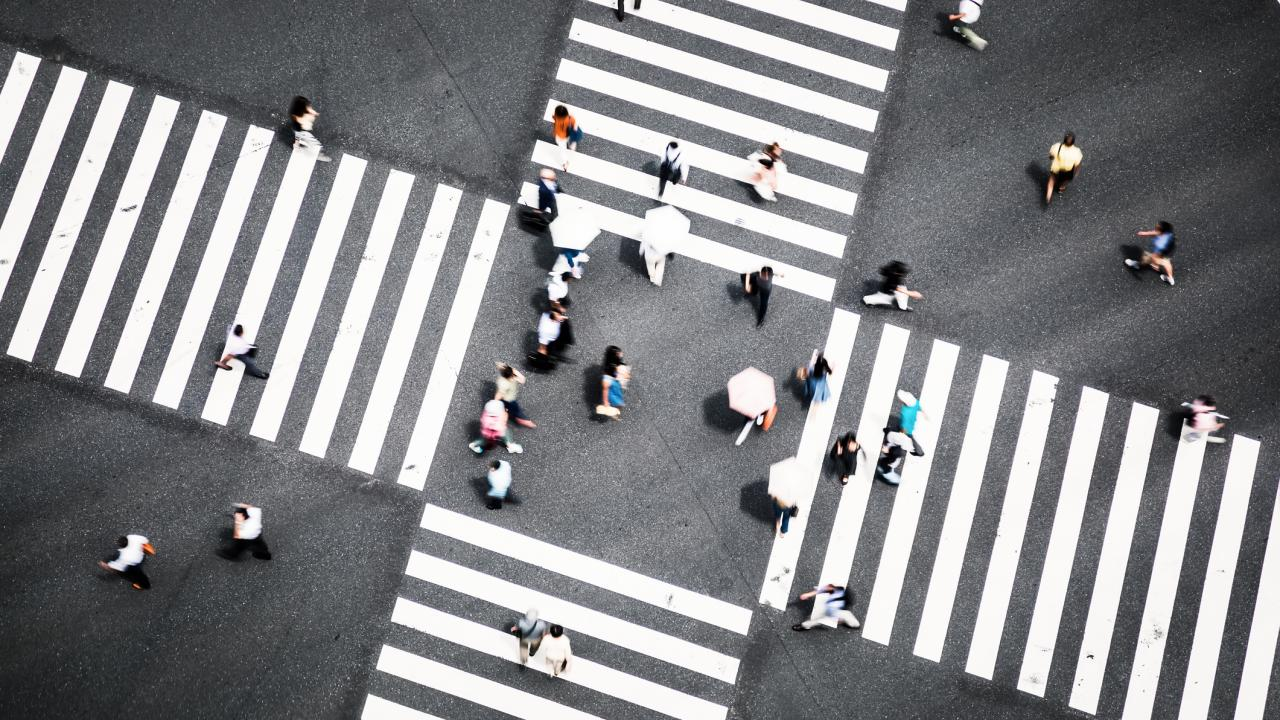Crosswalk: (798, 306, 1278, 712), (12, 69, 446, 459), (554, 2, 885, 268), (357, 504, 753, 720)
